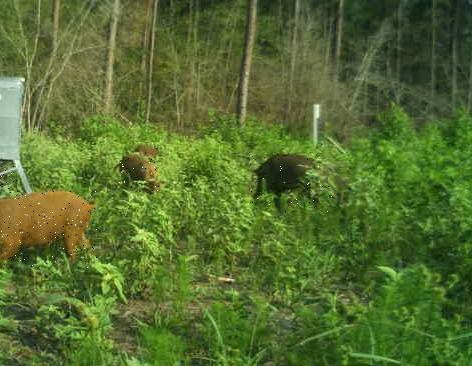Hog: (0, 189, 97, 269), (251, 154, 333, 215), (119, 153, 159, 191), (0, 158, 17, 193), (134, 143, 163, 160)
